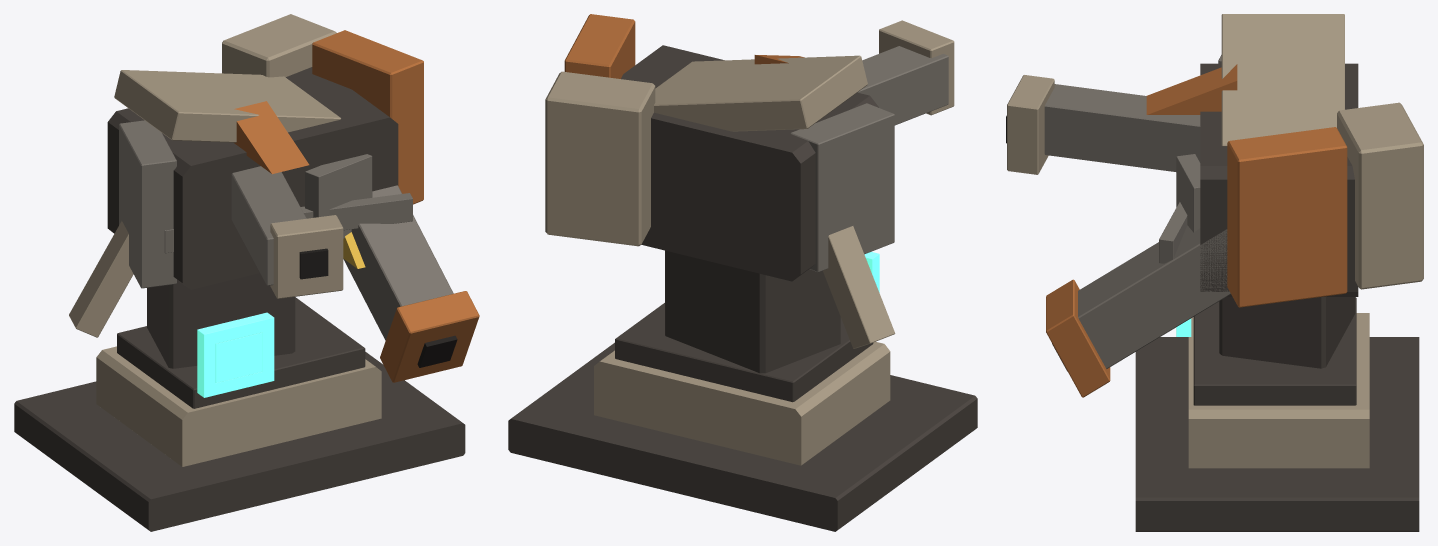
File: damaged.glb
3 renders of one model, left to right at view 1: azimuth 30°, elevation 25°; view 2: azimuth 150°, elevation 25°; view 3: azimuth 270°, elevation 25°, orthographic. The views are drawn at different scales.
Visible parts, largest first — view 1: ROLE_primary, ROLE_secondary, ROLE_bareMetal, ROLE_accent, ROLE_interaction, ROLE_rubber; view 2: ROLE_primary, ROLE_secondary, ROLE_bareMetal, ROLE_accent; view 3: ROLE_primary, ROLE_secondary, ROLE_accent, ROLE_bareMetal.
Part boxes in pixels (left/top/right/bottom): ROLE_primary: left=14, top=67, right=465, bottom=531; ROLE_secondary: left=69, top=14, right=381, bottom=466; ROLE_bareMetal: left=119, top=120, right=453, bottom=340; ROLE_accent: left=234, top=30, right=479, bottom=382; ROLE_interaction: left=197, top=312, right=274, bottom=397; ROLE_rubber: left=299, top=248, right=457, bottom=367; ROLE_primary: left=508, top=45, right=977, bottom=531; ROLE_secondary: left=545, top=20, right=954, bottom=465; ROLE_bareMetal: left=790, top=46, right=948, bottom=272; ROLE_accent: left=564, top=14, right=804, bottom=78; ROLE_primary: left=1135, top=63, right=1419, bottom=531; ROLE_secondary: left=1007, top=14, right=1423, bottom=468; ROLE_accent: left=1046, top=64, right=1347, bottom=397; ROLE_bareMetal: left=1044, top=55, right=1230, bottom=368.
Bounding box in the file's own units: 4.8 × 5.27 × 5.07.
